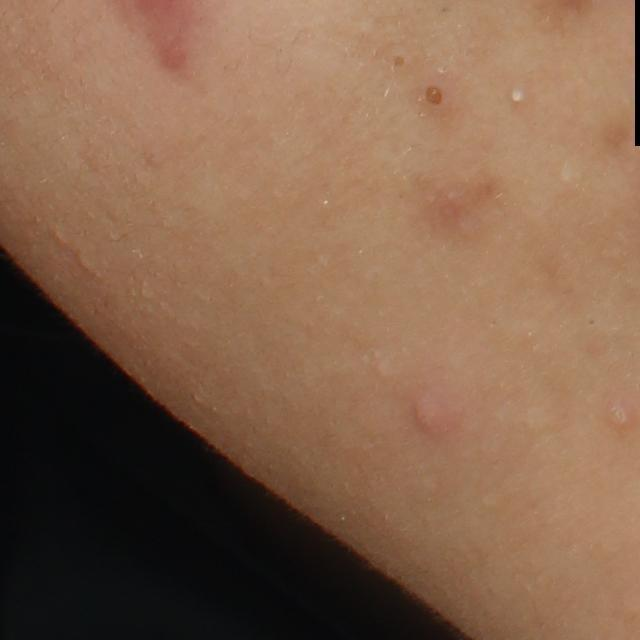comedo: (419, 76, 452, 115), (606, 400, 633, 431), (386, 48, 414, 74), (371, 361, 394, 384), (507, 86, 527, 106)
papule: (409, 395, 449, 435)
